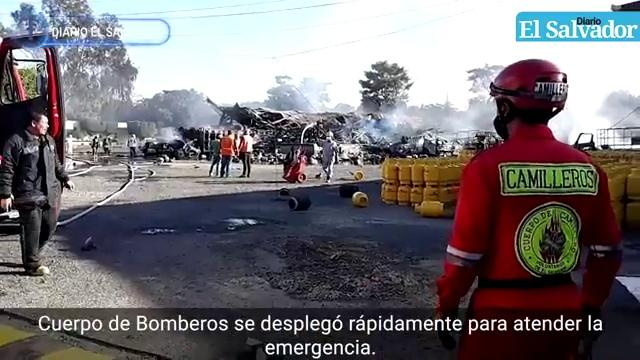smoke: (403, 113, 482, 130)
